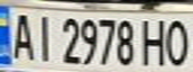2: (54, 14, 81, 65)
7: (97, 15, 118, 65)
8: (115, 16, 139, 66)
9: (78, 15, 100, 65)
A: (6, 9, 36, 62)
H: (139, 16, 172, 66)
I: (30, 11, 57, 62)
O: (160, 15, 193, 66)
